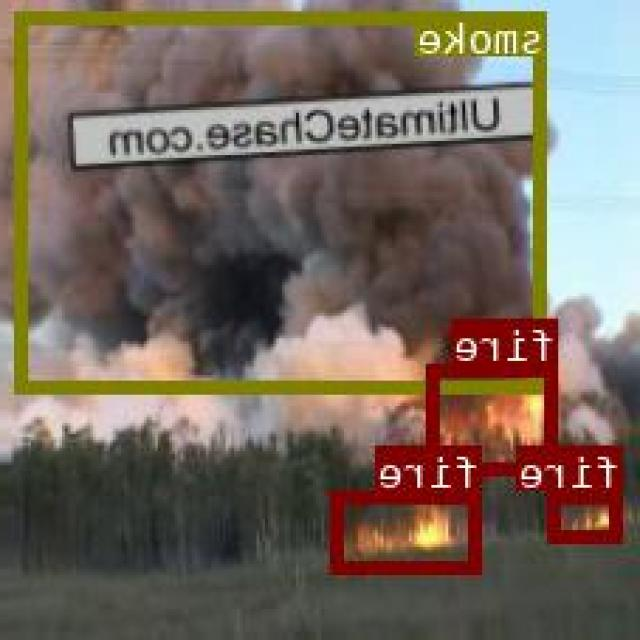fire: (429, 362, 561, 472), (336, 488, 484, 571), (552, 490, 626, 540)
smoke: (18, 11, 550, 391)
